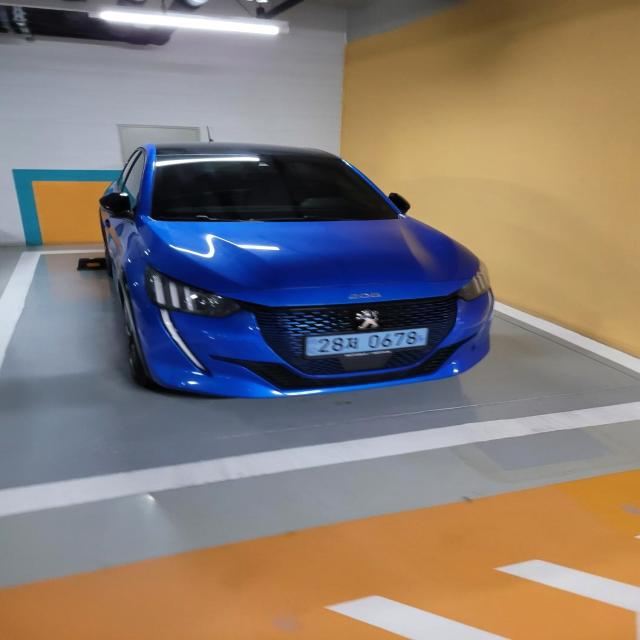EV_plate: (302, 327, 430, 357)
car: (93, 142, 497, 401)
